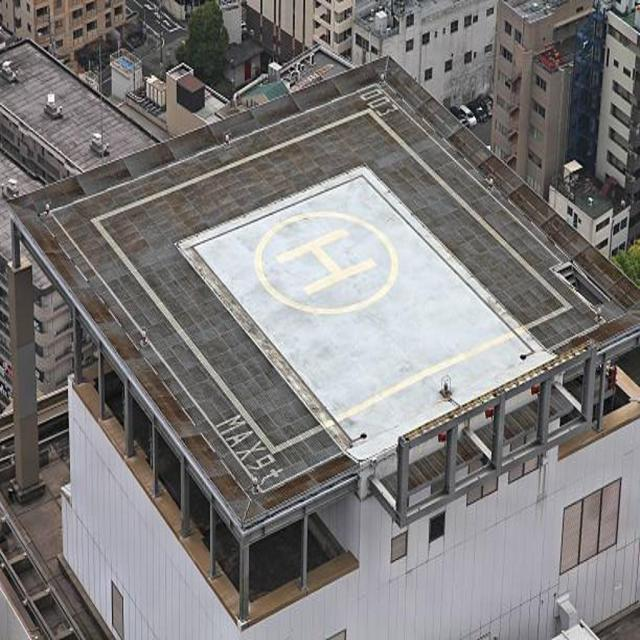helipad: (252, 210, 398, 316)
